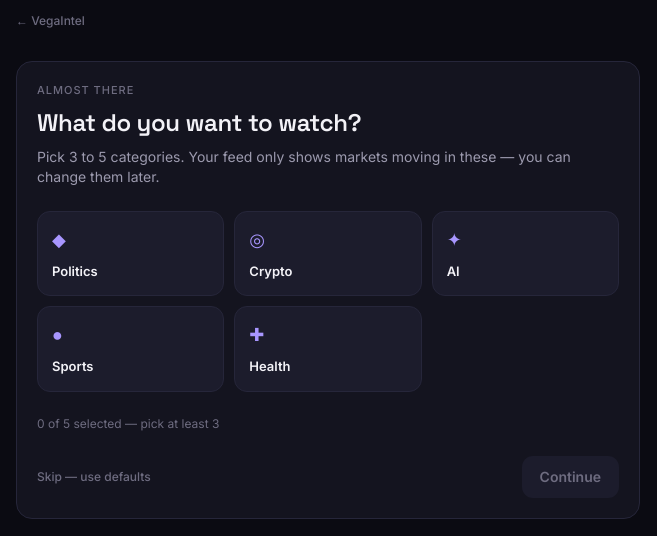
OnboardingPage › allows exactly five and enables Continue at the max
This screenshot has width=657, height=536.
Click the button "◆ Politics" at {"x": 131, "y": 254}, box [37, 211, 224, 296]
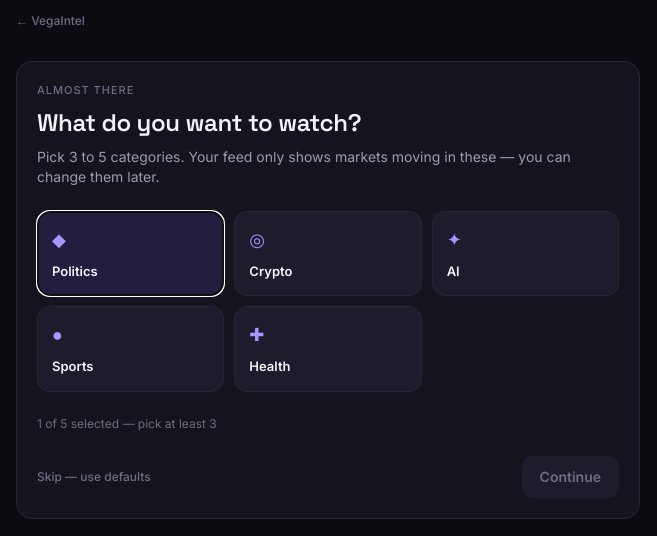
Click the button "◎ Crypto" at {"x": 328, "y": 254}, box [234, 211, 422, 296]
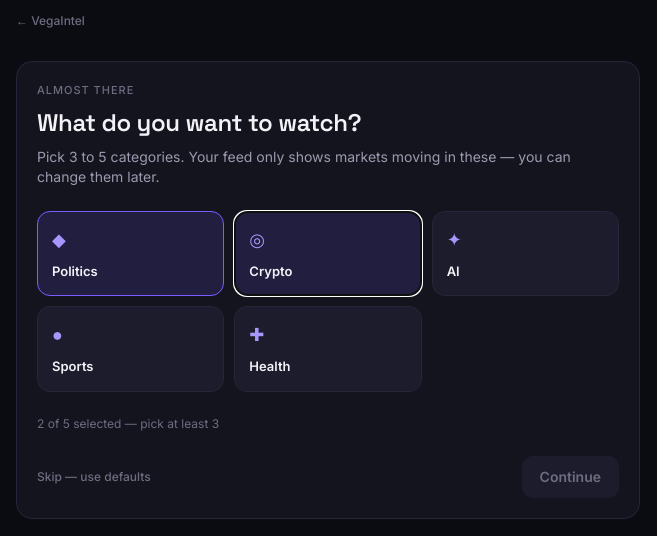
Click the button "✦ AI" at {"x": 525, "y": 254}, box [432, 211, 619, 296]
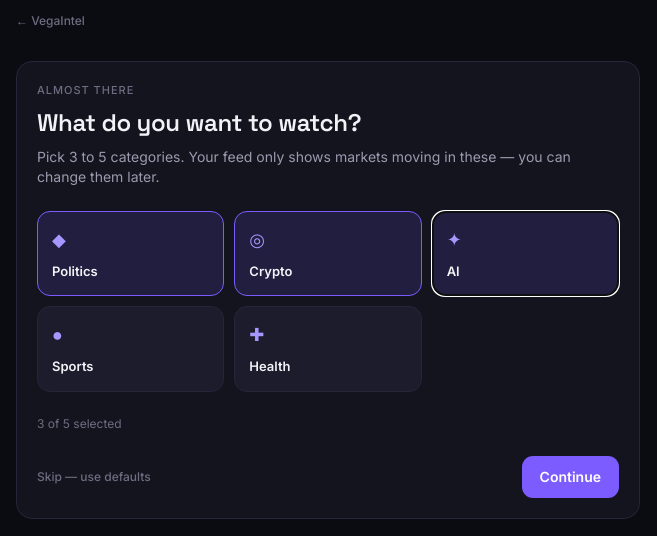
Click the button "● Sports" at {"x": 131, "y": 349}, box [37, 306, 224, 392]
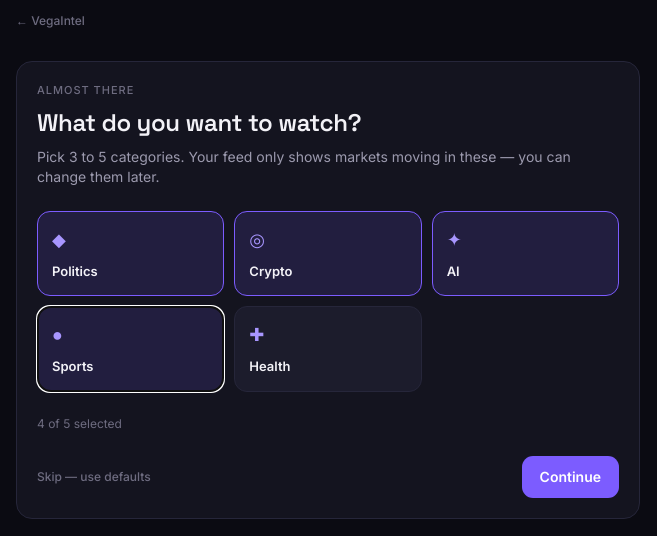
Click the button "✚ Health" at {"x": 328, "y": 349}, box [234, 306, 422, 392]
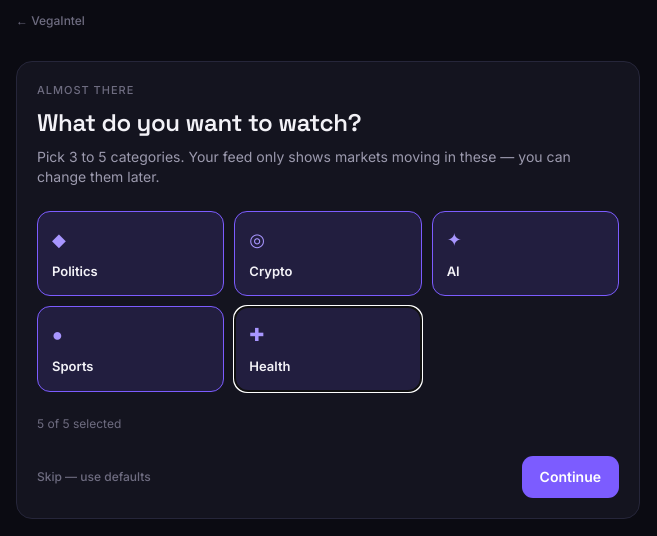
Check: the button "Continue" is enabled, box [522, 456, 619, 498]
Check: the text "5 of 5 selected" is shown, box [37, 416, 121, 431]
